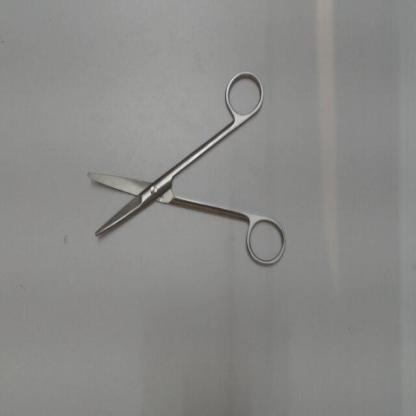Curved Mayo Scissors: (81, 63, 297, 280)
